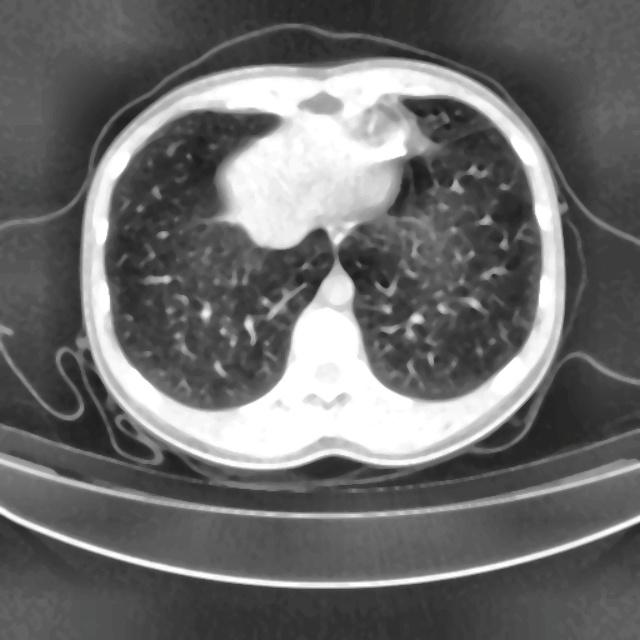covid: (79, 57, 569, 478)
